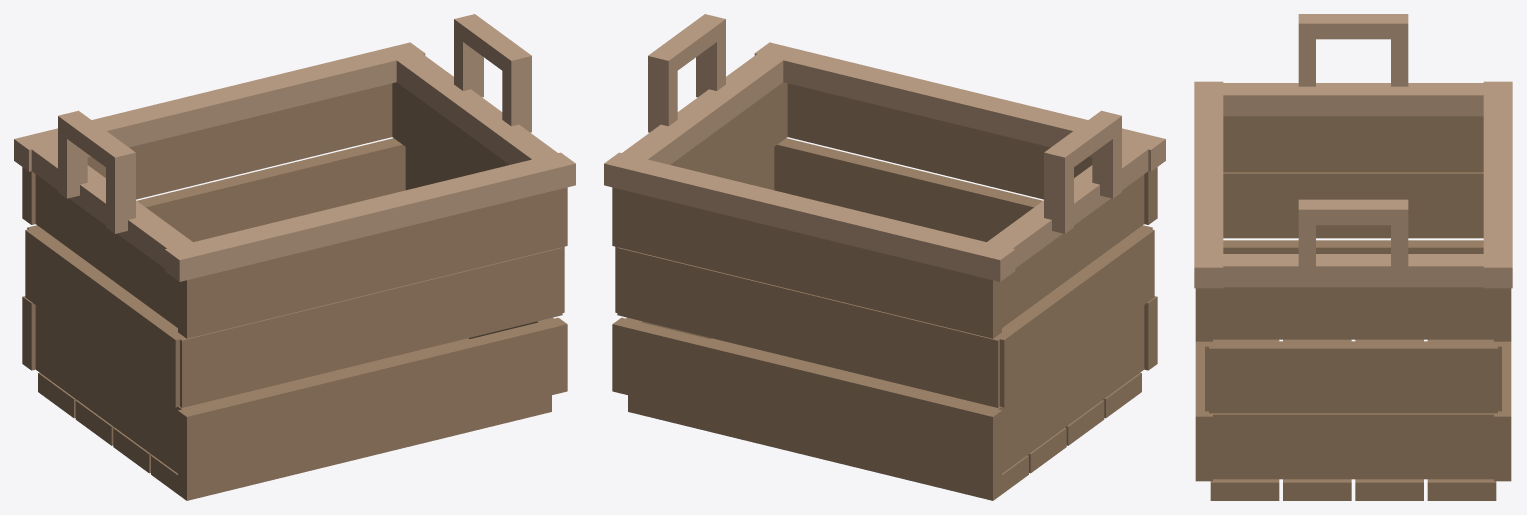
File: build_basket.glb
3 renders of one model, left to right at view 1: azimuth 30°, elevation 25°; view 2: azimuth 150°, elevation 25°; view 3: azimuth 270°, elevation 25°, orthographic. The views are drawn at different scales.
Visible parts, largest first — view 1: Baked; view 2: Baked; view 3: Baked.
Boxes of the visible parts, left/top/right/bottom form: Baked: left=14, top=14, right=575, bottom=500; Baked: left=604, top=14, right=1165, bottom=500; Baked: left=1194, top=14, right=1512, bottom=500.
Bounding box in the file's own units: 0.8 × 0.5795 × 0.55.
